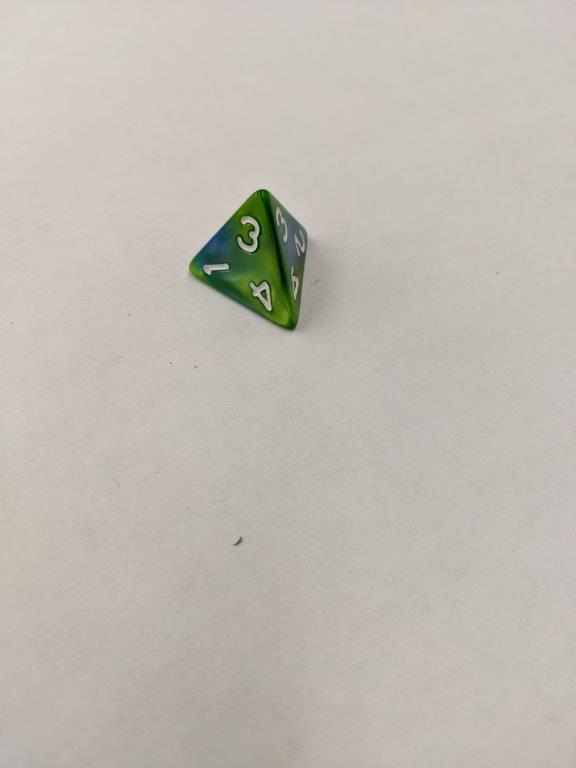d4-3: (186, 187, 312, 334)
